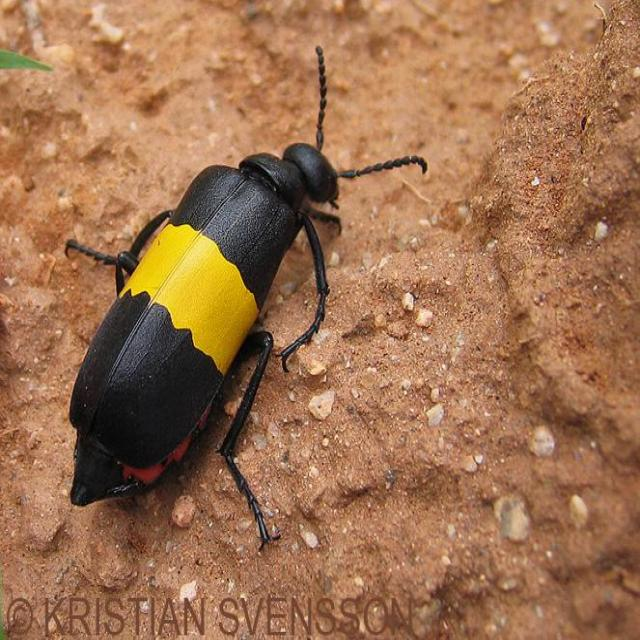BlisterBeetle-Adult-: (64, 38, 430, 551)
